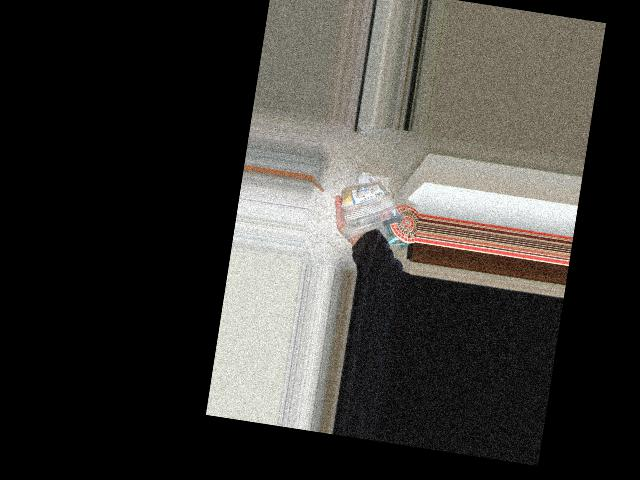cheese: (336, 164, 413, 247)
